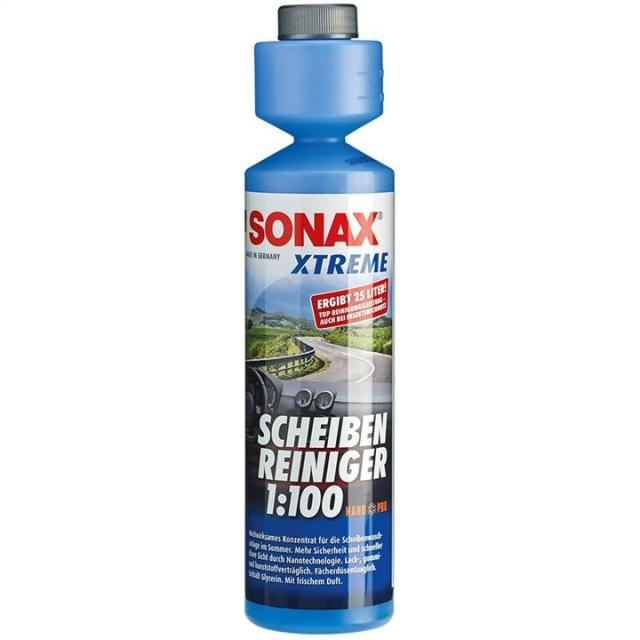winwinshield_washer: (240, 0, 399, 640)
